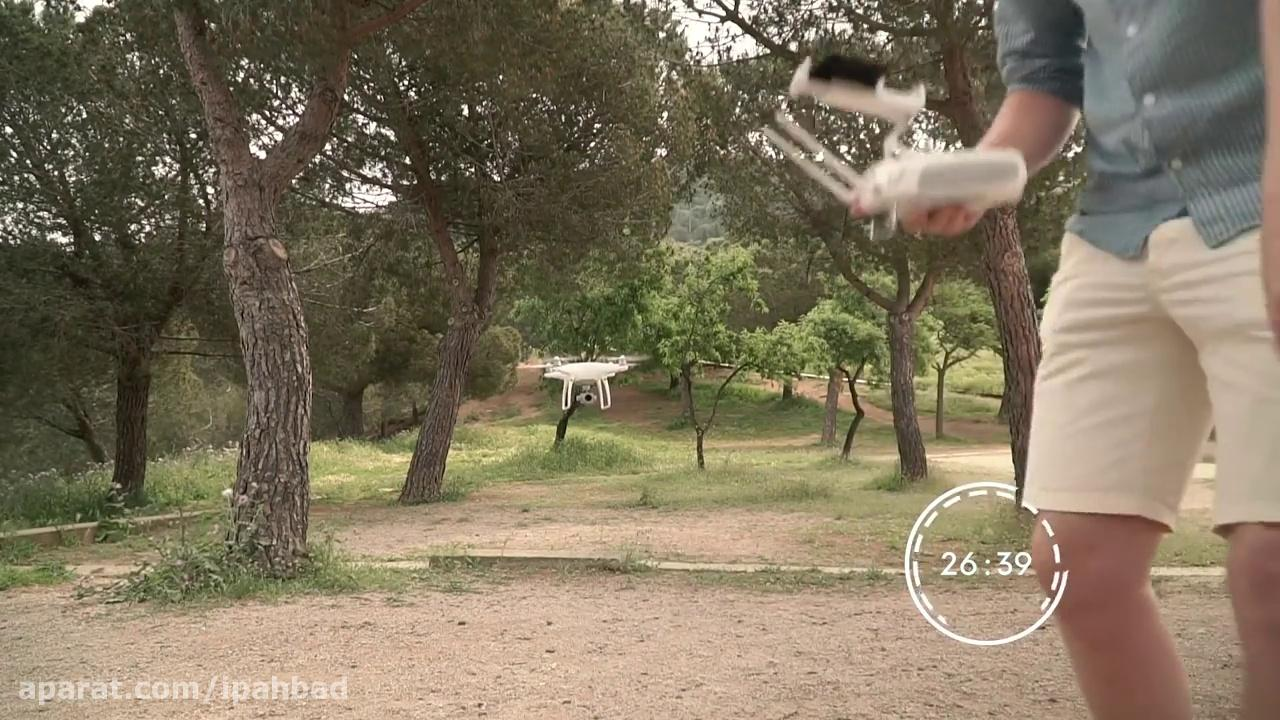drone: (524, 348, 652, 419)
